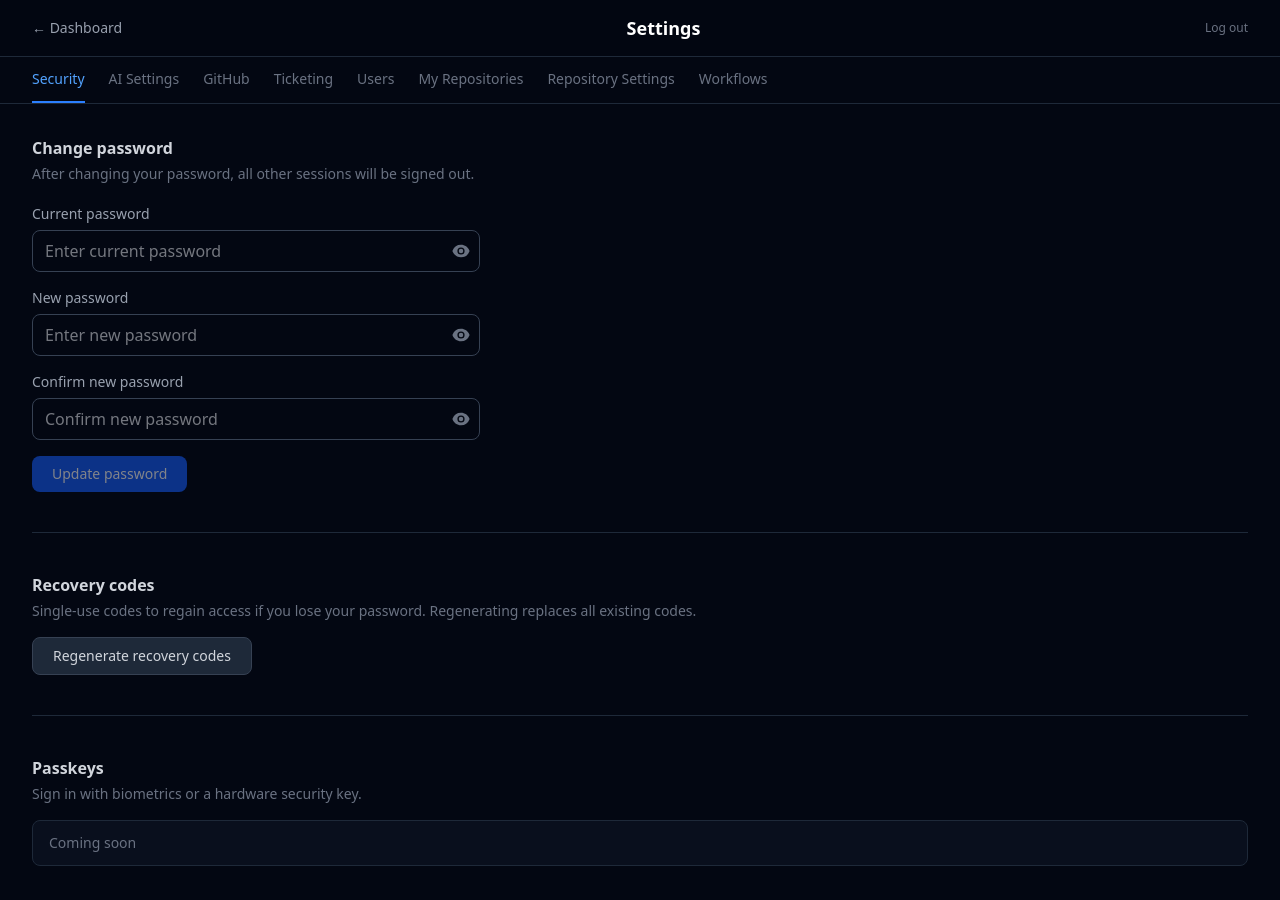
Scenario: Config — single page-level Save footer › shows the footer Save on form tabs and hides it on action tabs
Expected: the heading "Change password" is shown, top-left (32, 137), bottom-right (173, 159)
Expected: the button "save changes" is not shown
Switch to "AI Settings" (form tab) → the single footer Save appears.
Click the button "AI Settings": click(144, 80) top-left (108, 57), bottom-right (179, 103)
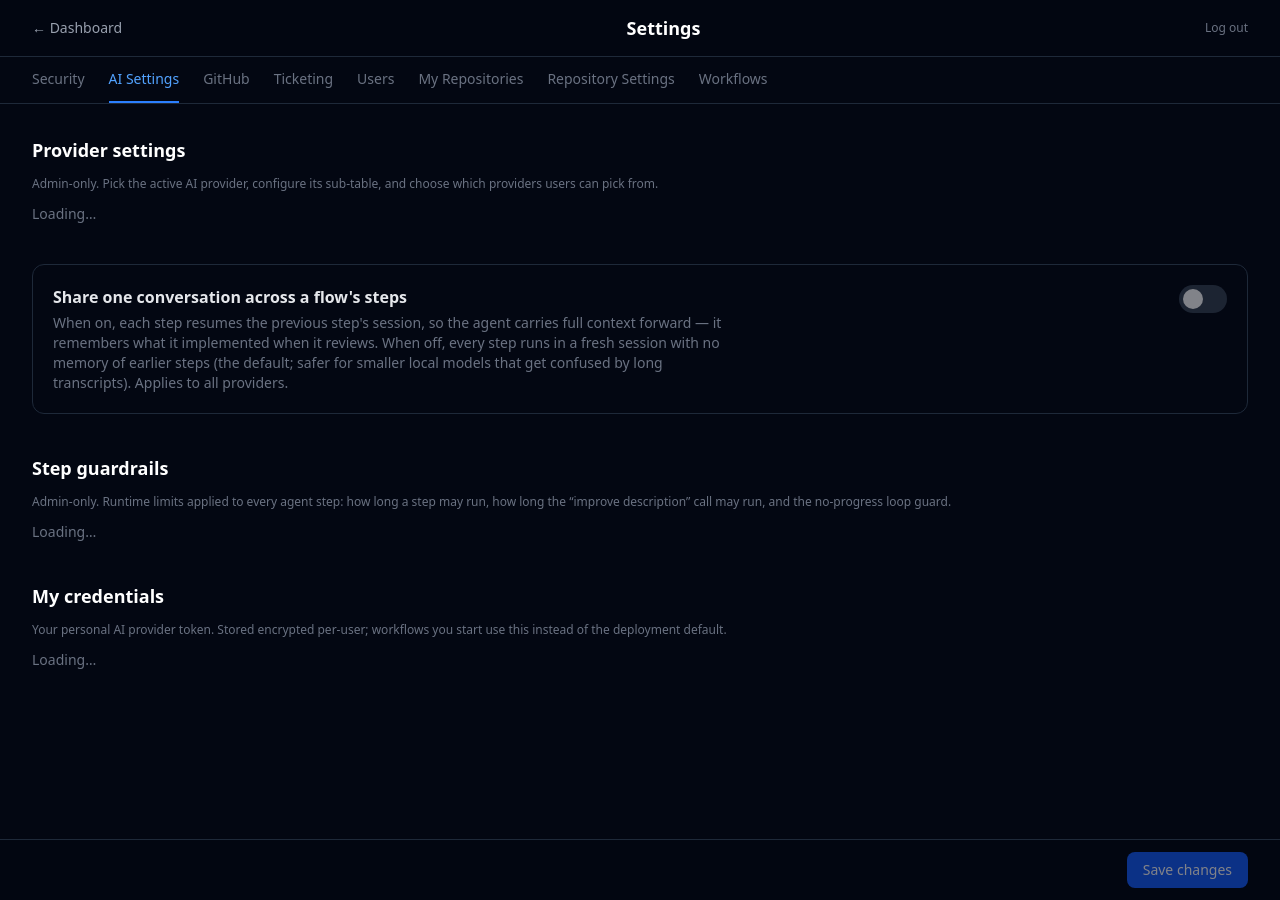
Now the button "Save changes" is shown, box top-left (1127, 852), bottom-right (1248, 888)
Switch to "Users" (action tab) → footer gone again.
Click the button "Users": click(376, 80) top-left (357, 57), bottom-right (394, 103)
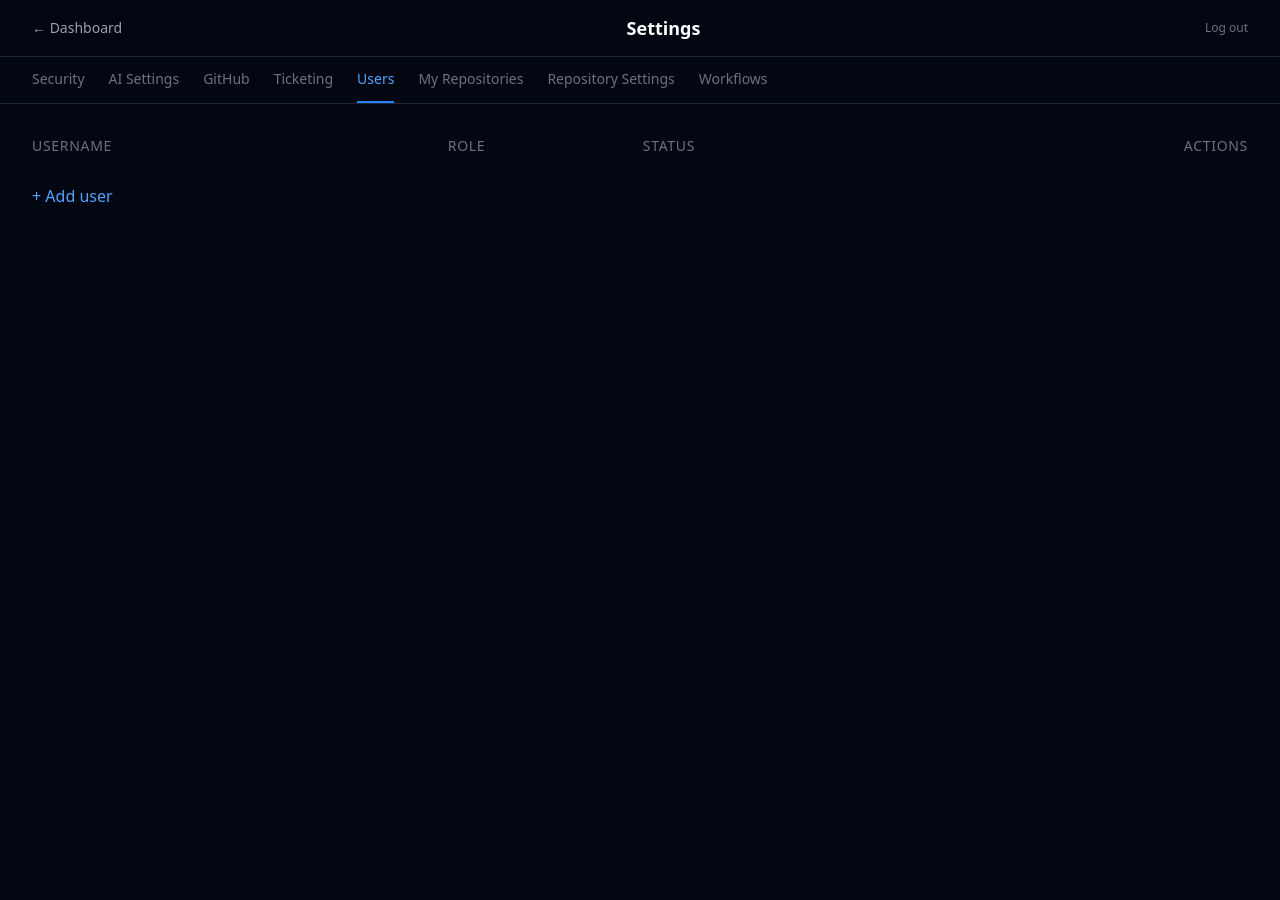
Now the button "Save changes" is gone
